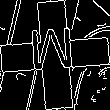M_S: (30, 28, 80, 82)
